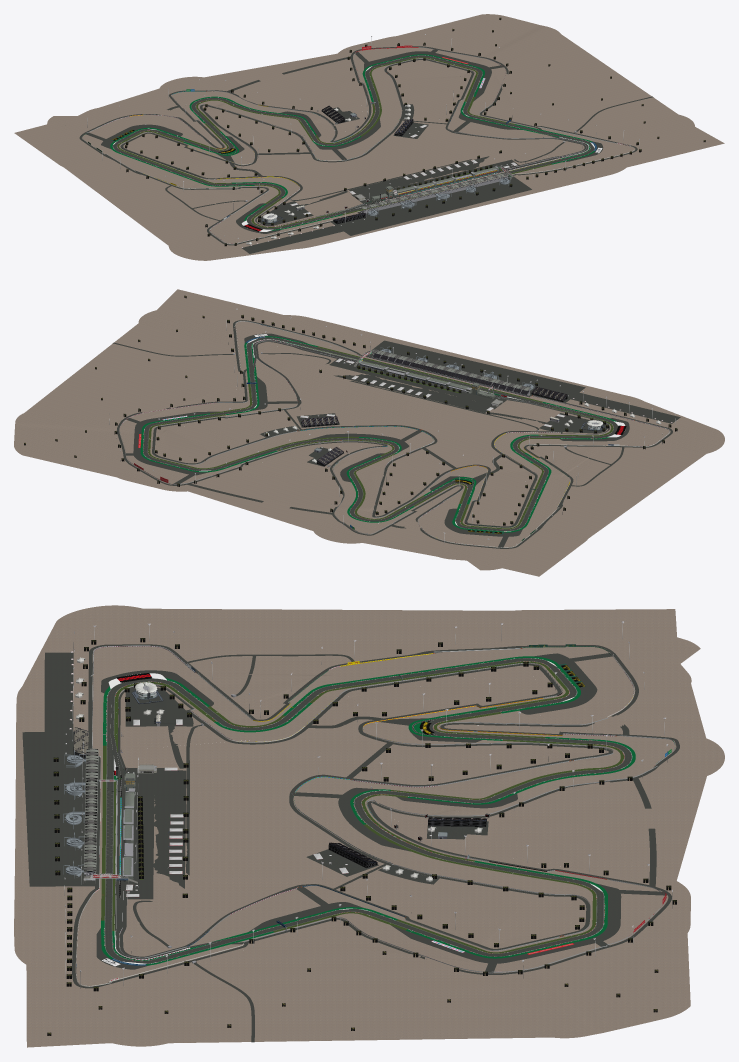
The model's file is qatar.glb.
3 renders of one model, top to bottom at view 1: azimuth 30°, elevation 25°; view 2: azimuth 150°, elevation 25°; view 3: azimuth 270°, elevation 25°, orthographic. The views are drawn at different scales.
Visible parts, largest first — view 1: t_-3_0, t_3_0, t_2_0, t_0_1, t_0_-2, t_-3_-1, t_2_-1, t_1_0, t_2_-2, t_-3_-2, t_-1_0, t_1_-1 (+30 smaller); view 2: t_-3_0, t_3_0, t_2_0, t_0_1, t_0_-2, t_2_-1, t_-3_-1, t_-1_1, t_1_0, t_2_-2, t_-3_-2, t_-1_0 (+30 smaller); view 3: t_-3_0, t_3_0, t_2_0, t_0_1, t_0_-2, t_2_-1, t_-3_-1, t_1_0, t_-1_0, t_-3_-2, t_-1_1, t_1_-1 (+30 smaller).
Part boxes in pixels (x1,y1,x2,y2): t_-3_0: [64, 167, 246, 245]; t_3_0: [561, 34, 678, 135]; t_2_0: [484, 34, 591, 136]; t_0_1: [351, 131, 509, 210]; t_0_-2: [237, 54, 371, 112]; t_-3_-1: [64, 144, 232, 218]; t_2_-1: [458, 34, 560, 119]; t_1_0: [392, 102, 522, 168]; t_2_-2: [404, 16, 537, 75]; t_-3_-2: [15, 111, 159, 166]; t_-1_0: [262, 143, 390, 201]; t_1_-1: [370, 78, 482, 126]; t_-3_0: [539, 442, 706, 537]; t_3_0: [25, 323, 231, 412]; t_2_0: [25, 347, 268, 412]; t_0_1: [334, 349, 524, 434]; t_0_-2: [190, 451, 339, 508]; t_2_-1: [25, 382, 235, 432]; t_-3_-1: [481, 443, 611, 538]; t_-1_1: [399, 363, 560, 438]; t_1_0: [230, 367, 367, 437]; t_2_-2: [17, 413, 169, 467]; t_-3_-2: [445, 512, 583, 576]; t_-1_0: [385, 401, 505, 465]; t_-3_0: [143, 608, 511, 693]; t_3_0: [168, 970, 551, 1043]; t_2_0: [172, 917, 550, 1037]; t_0_1: [72, 751, 365, 875]; t_0_-2: [485, 781, 674, 879]; t_2_-1: [285, 911, 551, 1037]; t_-3_-1: [182, 611, 511, 696]; t_1_0: [153, 858, 419, 925]; t_-1_0: [137, 739, 383, 806]; t_-3_-2: [489, 609, 693, 694]; t_-1_1: [73, 738, 327, 840]; t_1_-1: [334, 859, 540, 938].
Size of the model in its own units: 1855 by 41.63 by 1262.
Materials: 160 (160 with a texture image).
